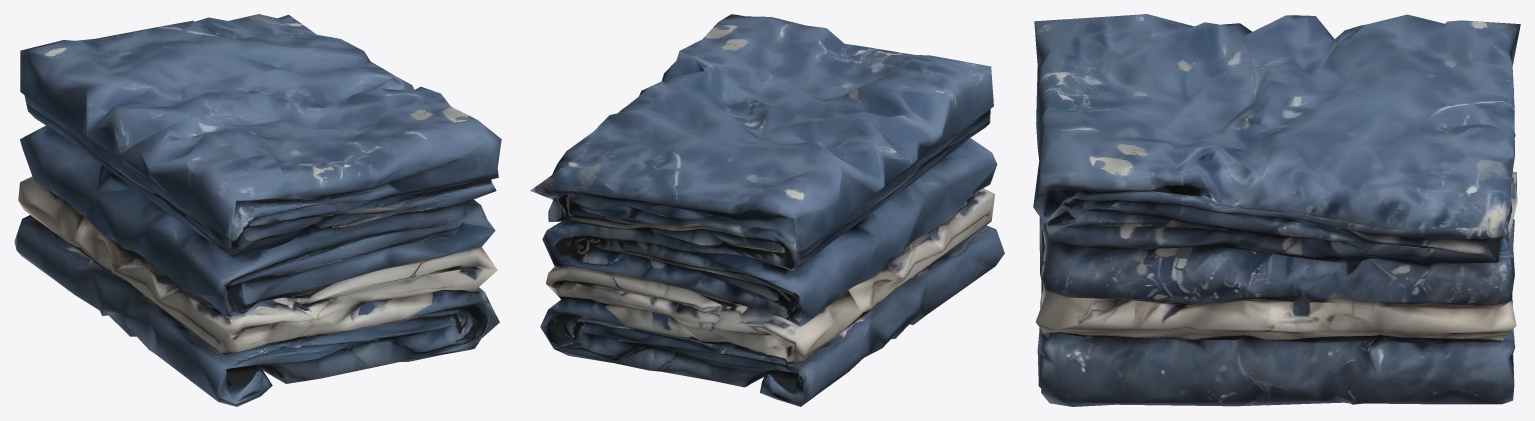
The model's file is futon.glb.
The picture shows the model from 3 angles, left to right: view 1: azimuth 30°, elevation 25°; view 2: azimuth 150°, elevation 25°; view 3: azimuth 270°, elevation 25°; orthographic projection. The views are drawn at different scales.
Visible parts, largest first — view 1: tripo_node_d3ea69c9-abb1-4c23-889a-ddb8fc2f15ff; view 2: tripo_node_d3ea69c9-abb1-4c23-889a-ddb8fc2f15ff; view 3: tripo_node_d3ea69c9-abb1-4c23-889a-ddb8fc2f15ff.
Boxes of the visible parts, left/top/right/bottom form: tripo_node_d3ea69c9-abb1-4c23-889a-ddb8fc2f15ff: left=14, top=14, right=501, bottom=406; tripo_node_d3ea69c9-abb1-4c23-889a-ddb8fc2f15ff: left=530, top=14, right=1004, bottom=406; tripo_node_d3ea69c9-abb1-4c23-889a-ddb8fc2f15ff: left=1033, top=14, right=1520, bottom=406.
Bounding box in the file's own units: 0.8175 × 0.5838 × 1.
1 material, 1 textured.
